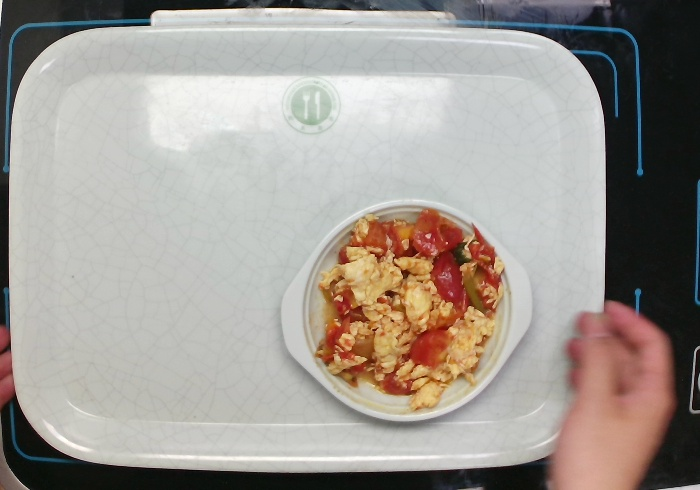JYsf-Shuang_Er_Pan: (279, 196, 536, 423)
